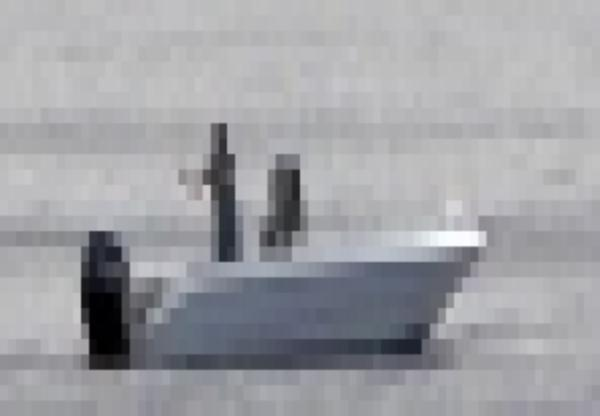Recreational: (0, 15, 600, 416)
